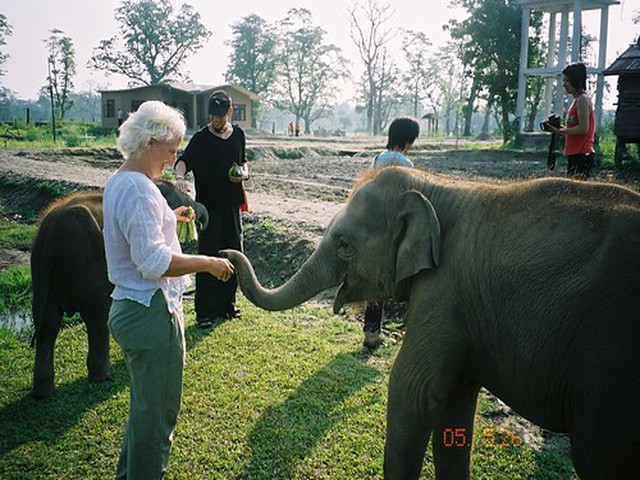Elephant: (236, 164, 640, 466), (23, 189, 115, 394)
Person: (102, 97, 209, 478), (180, 87, 246, 321), (556, 56, 602, 159), (361, 115, 424, 166)
